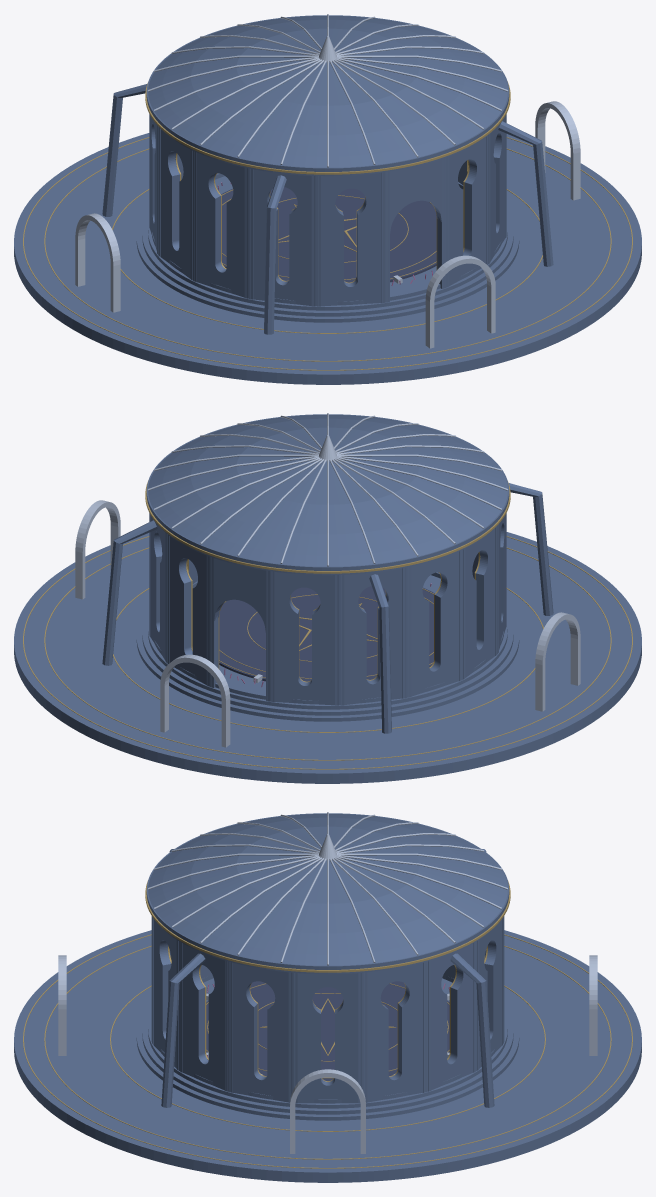
The picture shows the model from 3 angles, top to bottom: view 1: azimuth 30°, elevation 25°; view 2: azimuth 150°, elevation 25°; view 3: azimuth 270°, elevation 25°; orthographic projection.
Visible parts, largest first — view 1: TERRACE_finite_base, ROOF_hollow_dome, WALL_15_perforated, DANCE_floor, WALL_14_perforated, WALL_13_perforated, WALL_01_perforated, WALL_12_perforated, HALL_step_00, ROOF_drum, HALL_step_01, WALL_02_perforated (+21 smaller); view 2: TERRACE_finite_base, ROOF_hollow_dome, WALL_09_perforated, DANCE_floor, WALL_10_perforated, WALL_11_perforated, WALL_07_perforated, WALL_12_perforated, HALL_step_00, ROOF_drum, HALL_step_01, WALL_06_perforated (+21 smaller); view 3: TERRACE_finite_base, ROOF_hollow_dome, WALL_03_perforated, WALL_05_perforated, WALL_04_perforated, WALL_02_perforated, WALL_06_perforated, DANCE_floor, ROOF_drum, HALL_step_00, HALL_step_01, WALL_01_perforated (+19 smaller).
Part boxes in pixels (x1,y1,x2,y2): TERRACE_finite_base: [14, 133, 641, 384]; ROOF_hollow_dome: [148, 16, 507, 167]; WALL_15_perforated: [317, 172, 384, 306]; DANCE_floor: [221, 187, 436, 282]; WALL_14_perforated: [249, 168, 315, 306]; WALL_13_perforated: [194, 151, 247, 298]; WALL_01_perforated: [446, 135, 488, 287]; WALL_12_perforated: [158, 127, 192, 280]; HALL_step_00: [136, 210, 519, 322]; ROOF_drum: [146, 15, 509, 176]; HALL_step_01: [142, 214, 513, 316]; WALL_02_perforated: [488, 114, 506, 263]; TERRACE_finite_base: [14, 532, 641, 783]; ROOF_hollow_dome: [148, 415, 507, 566]; WALL_09_perforated: [271, 571, 338, 705]; DANCE_floor: [219, 586, 434, 681]; WALL_10_perforated: [340, 567, 406, 705]; WALL_11_perforated: [408, 550, 461, 697]; WALL_07_perforated: [167, 534, 209, 686]; WALL_12_perforated: [463, 526, 497, 679]; HALL_step_00: [136, 609, 519, 721]; ROOF_drum: [146, 414, 509, 575]; HALL_step_01: [142, 613, 513, 715]; WALL_06_perforated: [149, 513, 167, 662]; TERRACE_finite_base: [14, 930, 641, 1182]; ROOF_hollow_dome: [148, 814, 507, 965]; WALL_03_perforated: [229, 962, 292, 1102]; WALL_05_perforated: [363, 962, 426, 1102]; WALL_04_perforated: [294, 973, 361, 1103]; WALL_02_perforated: [179, 942, 227, 1091]; WALL_06_perforated: [428, 942, 476, 1091]; DANCE_floor: [206, 981, 449, 1080]; ROOF_drum: [146, 813, 509, 974]; HALL_step_00: [136, 1005, 519, 1120]; HALL_step_01: [142, 1009, 513, 1114]; WALL_01_perforated: [152, 917, 178, 1070].
Bounding box in the file's own units: 22 × 8.35 × 22.
